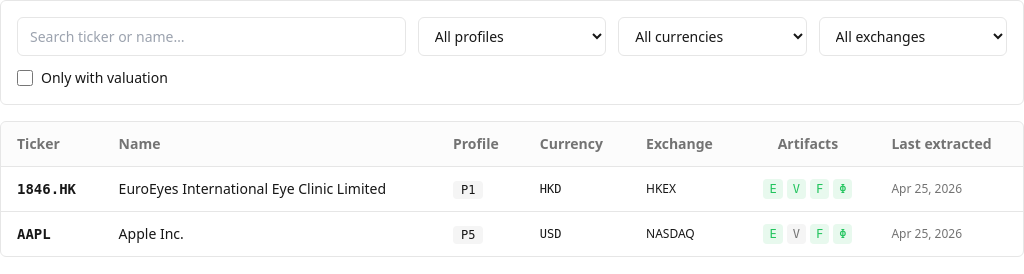
Test: TickerList › filters by has_valuation
Click the checkbox labelled "Only with valuation" at [25, 78], box [17,70,33,86]
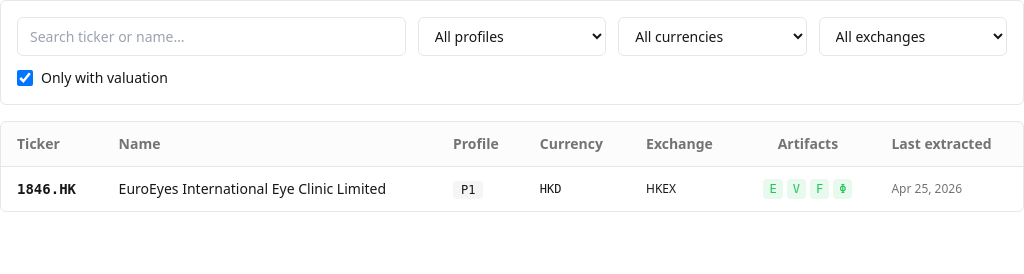
Expected: the link "1846.HK" is shown, [17,181,76,197]
Expected: the link "AAPL" is gone
